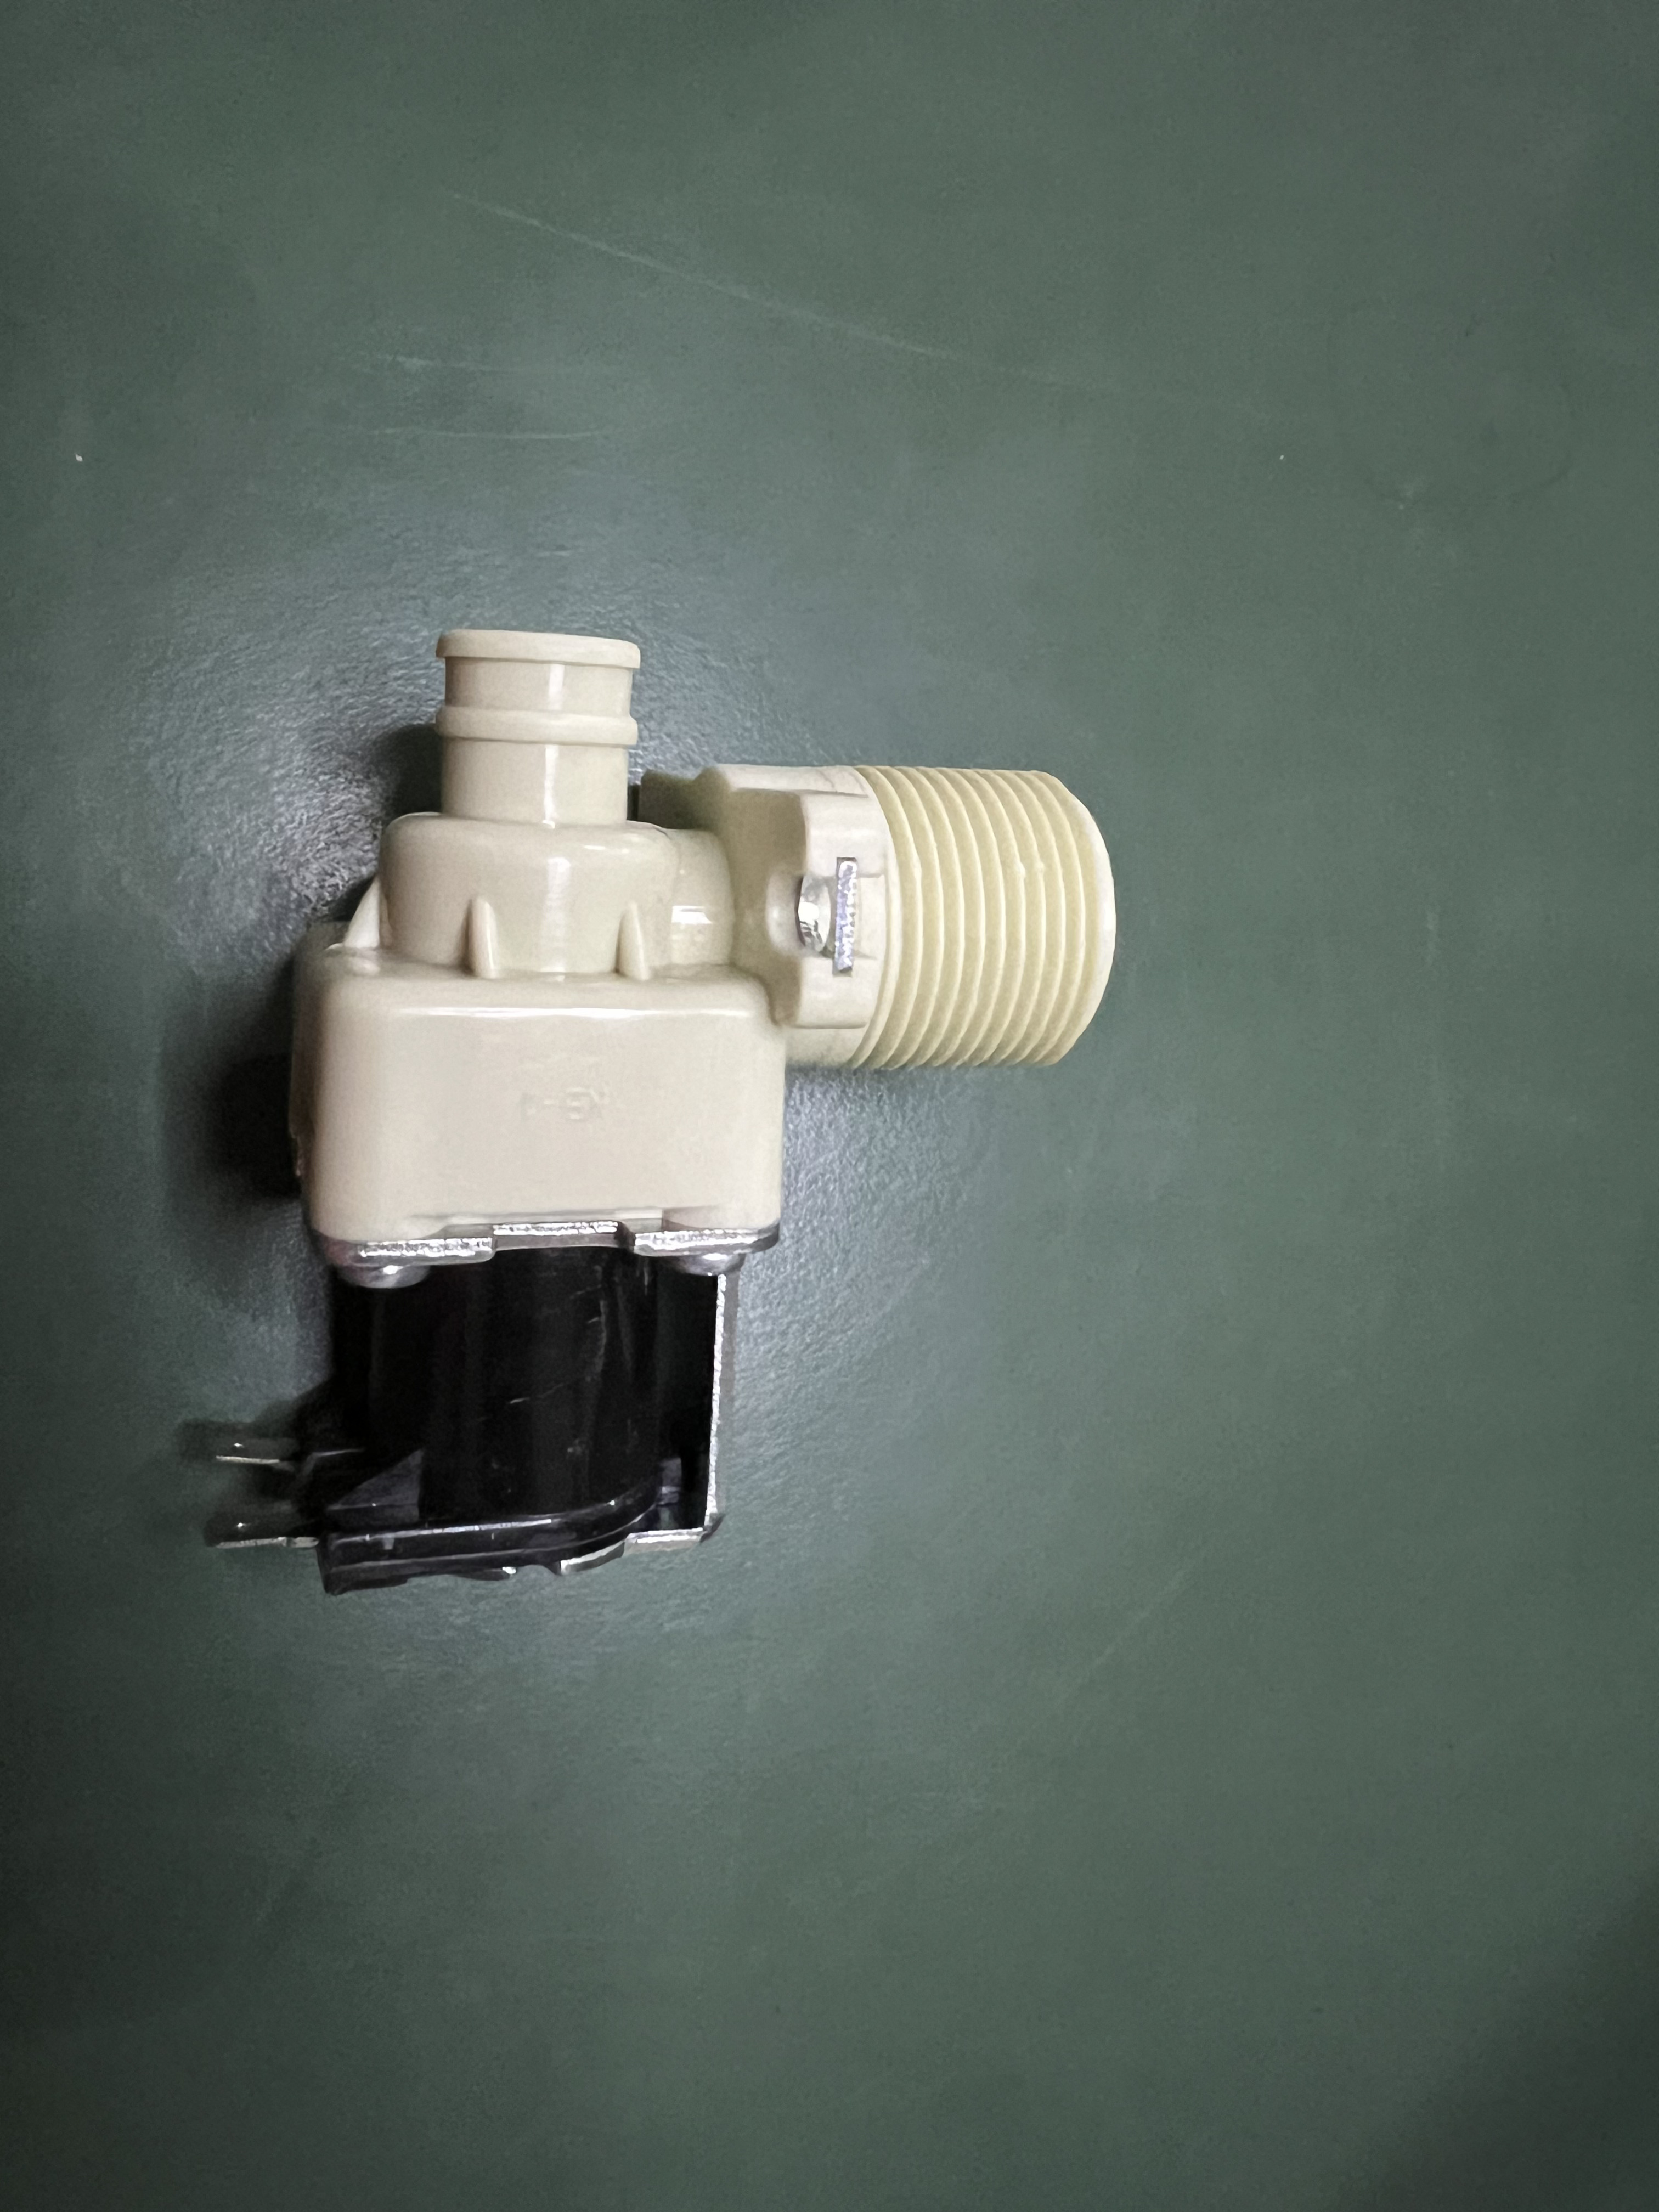godrej_inlet_valves: (159, 608, 1178, 1646)
